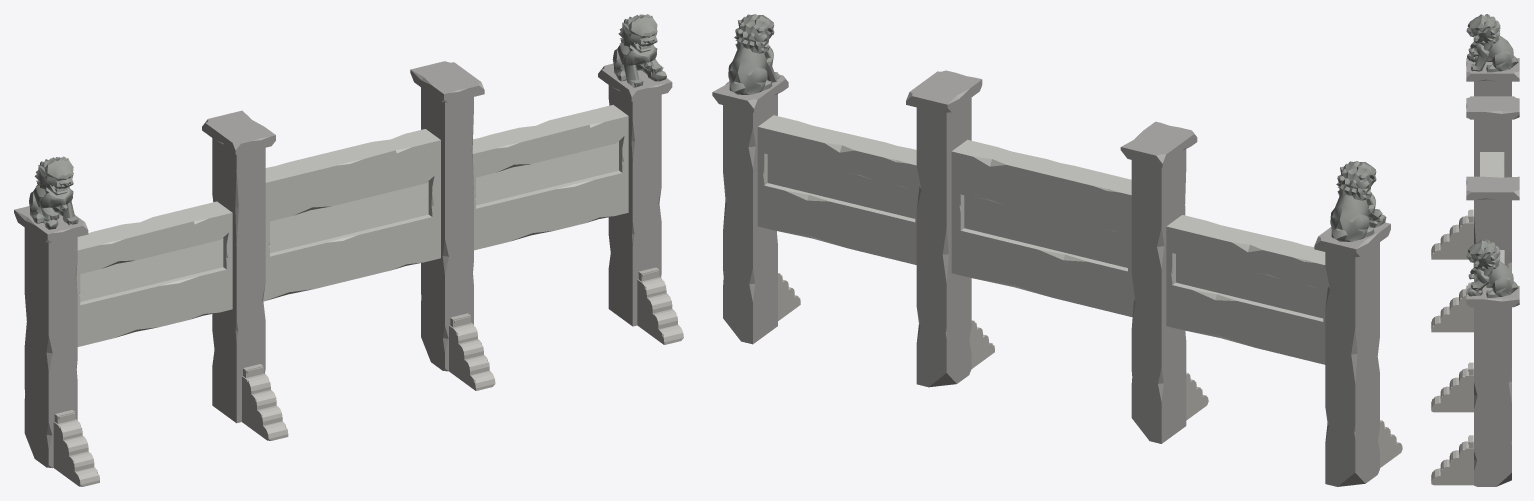
File: SM_Plaque_02.fbx
3 views of the same model, side by side, from view 1: azimuth 30°, elevation 25°; view 2: azimuth 150°, elevation 25°; view 3: azimuth 270°, elevation 25° (orthographic). The views are drawn at different scales.
Parts seen in each view (by area): view 1: SM_Plaque_2; view 2: SM_Plaque_2; view 3: SM_Plaque_2.
Boxes of the visible parts, left/top/right/bottom form: SM_Plaque_2: left=14, top=14, right=683, bottom=486; SM_Plaque_2: left=712, top=14, right=1402, bottom=486; SM_Plaque_2: left=1431, top=14, right=1519, bottom=486.
Bounding box in the file's own units: 2081 × 963 × 322.
